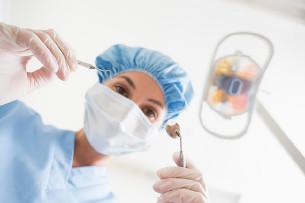OK: (81, 73, 167, 159)
